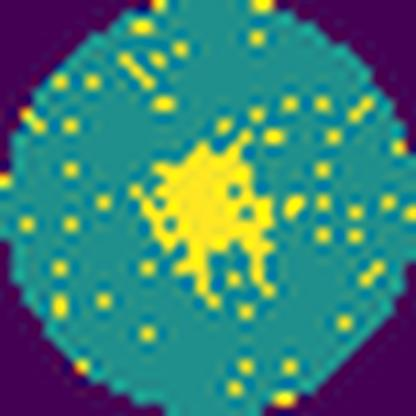Center: (144, 143, 275, 300)
